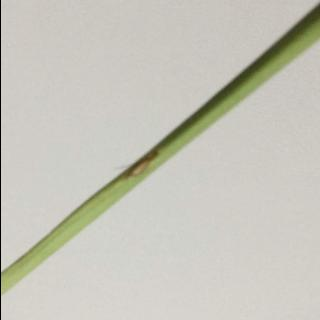Blast: (104, 140, 164, 186)
